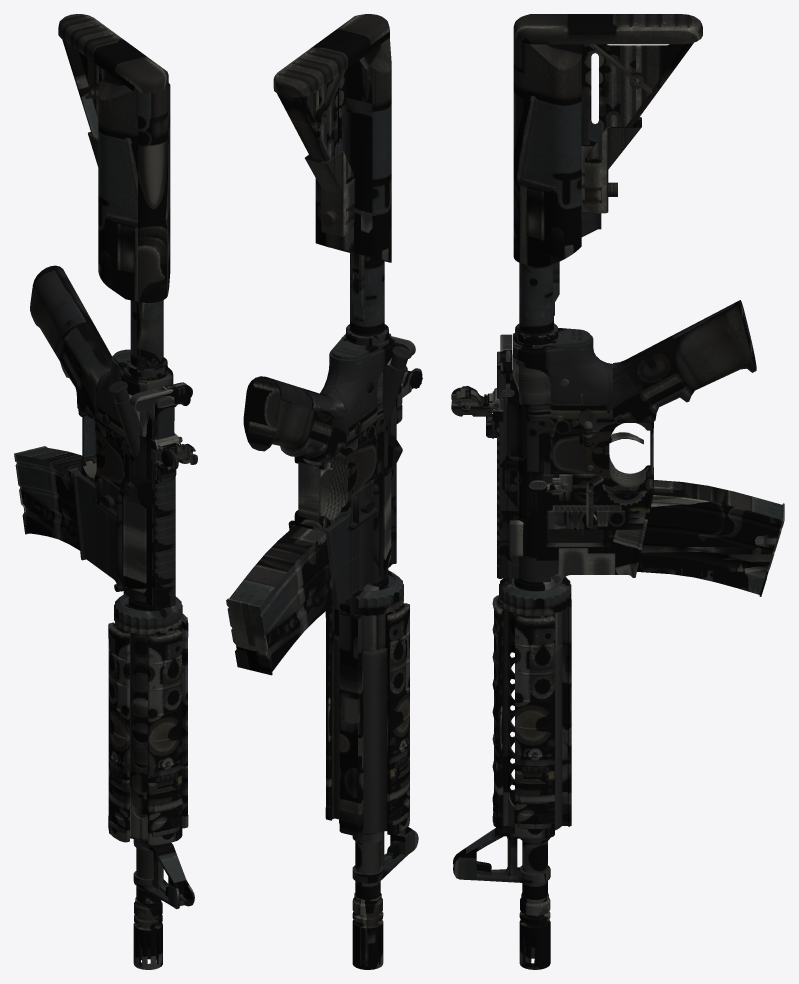
3 renders of one model, left to right at view 1: azimuth 30°, elevation 25°; view 2: azimuth 150°, elevation 25°; view 3: azimuth 270°, elevation 25°, orthographic. The views are drawn at different scales.
Visible parts, largest first — view 1: studio.v_m4a1_model.smd.mesh_0; view 2: studio.v_m4a1_model.smd.mesh_0; view 3: studio.v_m4a1_model.smd.mesh_0.
Boxes of the visible parts, x1,y1,x2,y2 form: studio.v_m4a1_model.smd.mesh_0: [14, 14, 197, 969]; studio.v_m4a1_model.smd.mesh_0: [226, 14, 422, 969]; studio.v_m4a1_model.smd.mesh_0: [451, 14, 784, 969].
Size of the model in its own units: 3.06 by 35.32 by 11.33.
